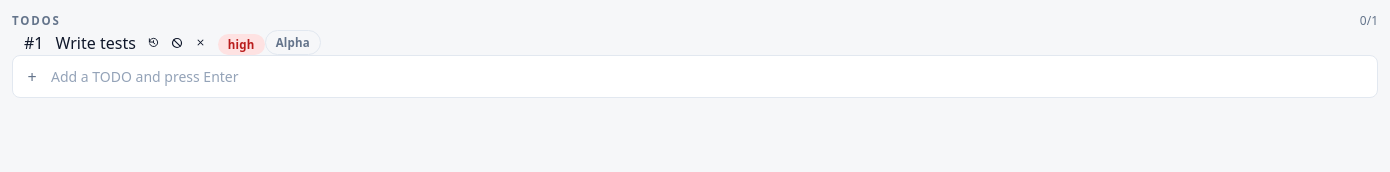
TodosSection › badges stay visible in edit mode
Double-click the button "Write tests": (96, 43) [56, 31, 136, 55]
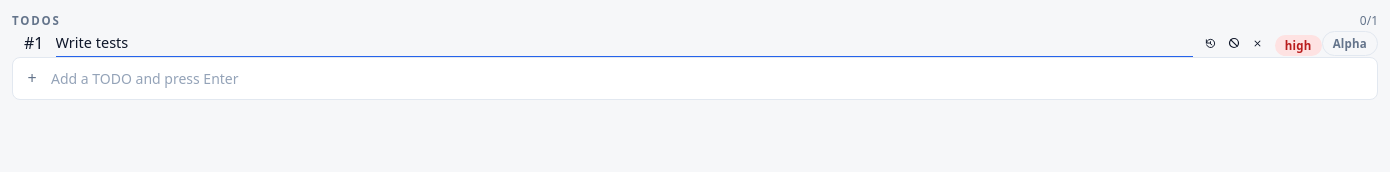
Expected: the text "high" is shown, [1275, 35, 1322, 56]
Now the field showing "Write tests" is shown, box [56, 30, 1193, 57]
